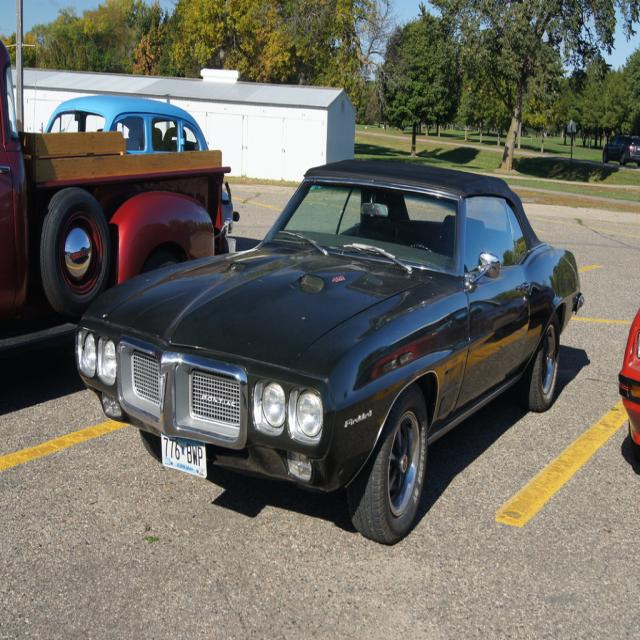car: (74, 160, 583, 543)
